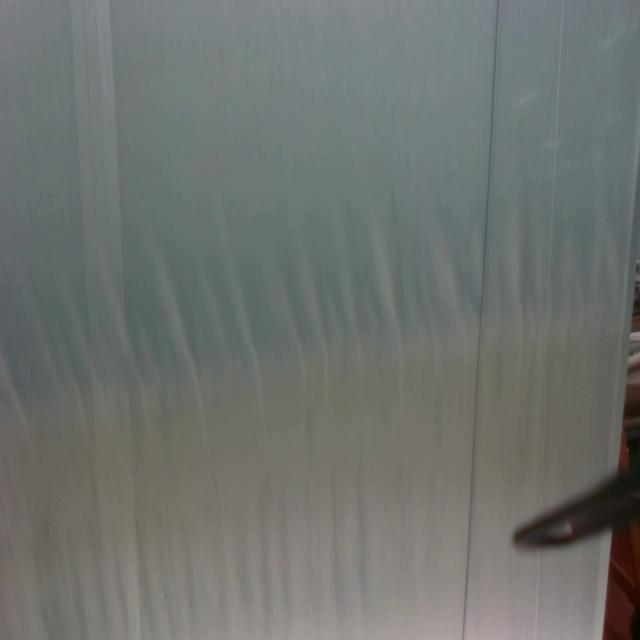crease: (80, 1, 142, 640), (462, 0, 500, 639), (540, 0, 565, 498), (534, 553, 542, 640)
